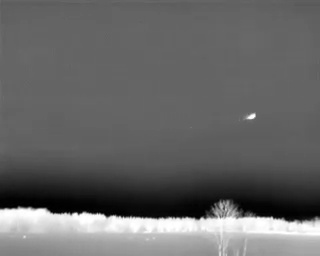BIRD: (242, 109, 259, 124)
